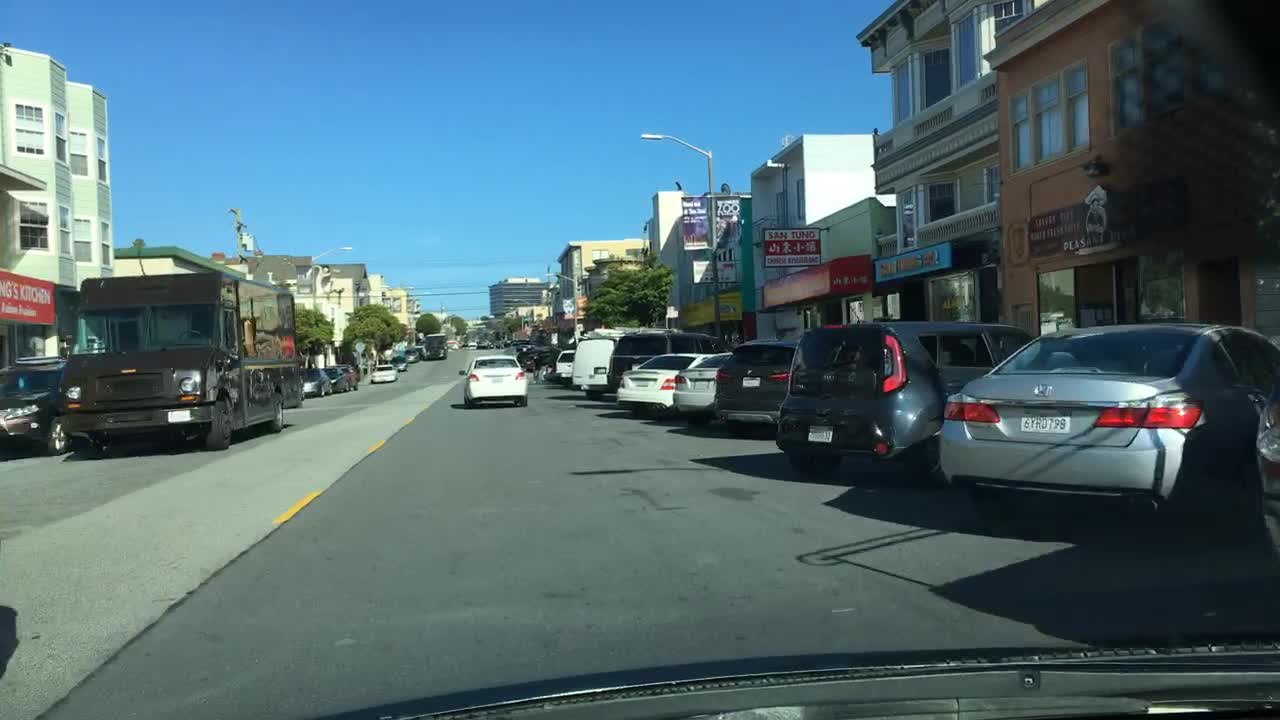car: (928, 317, 1279, 522), (774, 316, 1037, 463), (715, 337, 801, 429), (0, 356, 73, 454), (607, 333, 728, 388), (613, 347, 708, 413), (672, 348, 733, 417), (1254, 399, 1279, 560), (455, 353, 530, 405), (298, 368, 331, 400), (520, 345, 566, 366), (321, 366, 349, 393), (552, 350, 573, 383), (369, 362, 398, 385), (335, 363, 358, 386), (391, 353, 407, 371), (495, 337, 529, 345), (520, 340, 543, 351), (404, 350, 420, 365), (415, 343, 426, 360), (475, 337, 493, 347), (461, 337, 477, 348), (444, 340, 457, 350)
truck: (60, 270, 298, 451), (569, 323, 679, 397), (426, 334, 447, 357)
